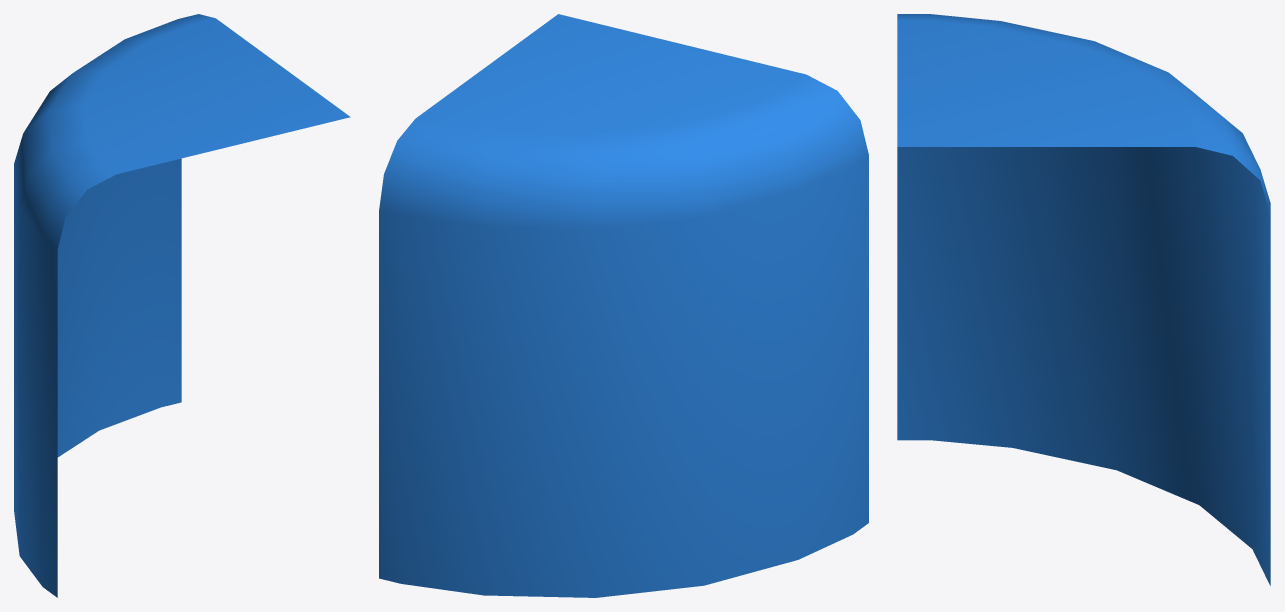
The model's file is BaseBlock_Corner_Mesh.fbx.
3 renders of one model, left to right at view 1: azimuth 30°, elevation 25°; view 2: azimuth 150°, elevation 25°; view 3: azimuth 270°, elevation 25°, orthographic. The views are drawn at different scales.
Parts seen in each view (by area): view 1: BaseBlock_Corner; view 2: BaseBlock_Corner; view 3: BaseBlock_Corner.
Boxes of the visible parts, left/top/right/bottom form: BaseBlock_Corner: left=14, top=14, right=350, bottom=597; BaseBlock_Corner: left=379, top=14, right=868, bottom=597; BaseBlock_Corner: left=897, top=14, right=1270, bottom=585.
Bounding box in the file's own units: 150 × 150 × 200.
